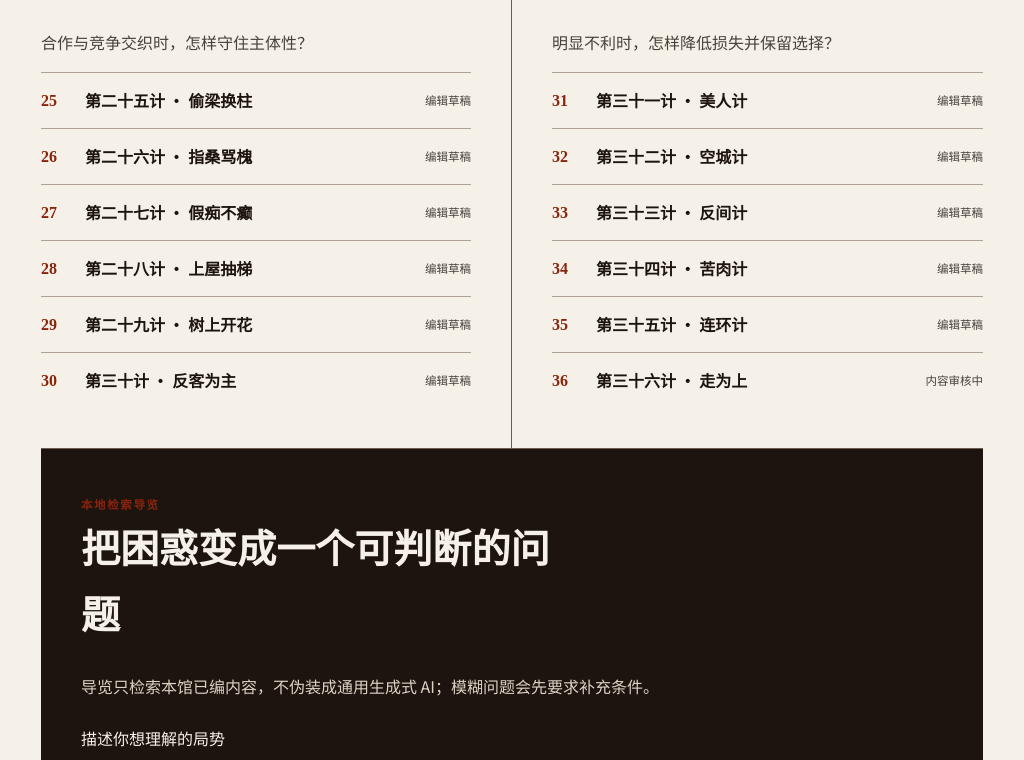
it: responsive interactive museum › opens with six galleries and can enter an exhibit
(page scrolled)
Step 1. Click the button "36 第三十六计 · 走为上 内容审核中" → (636, 380), box [552, 352, 983, 408]
(page scrolled)
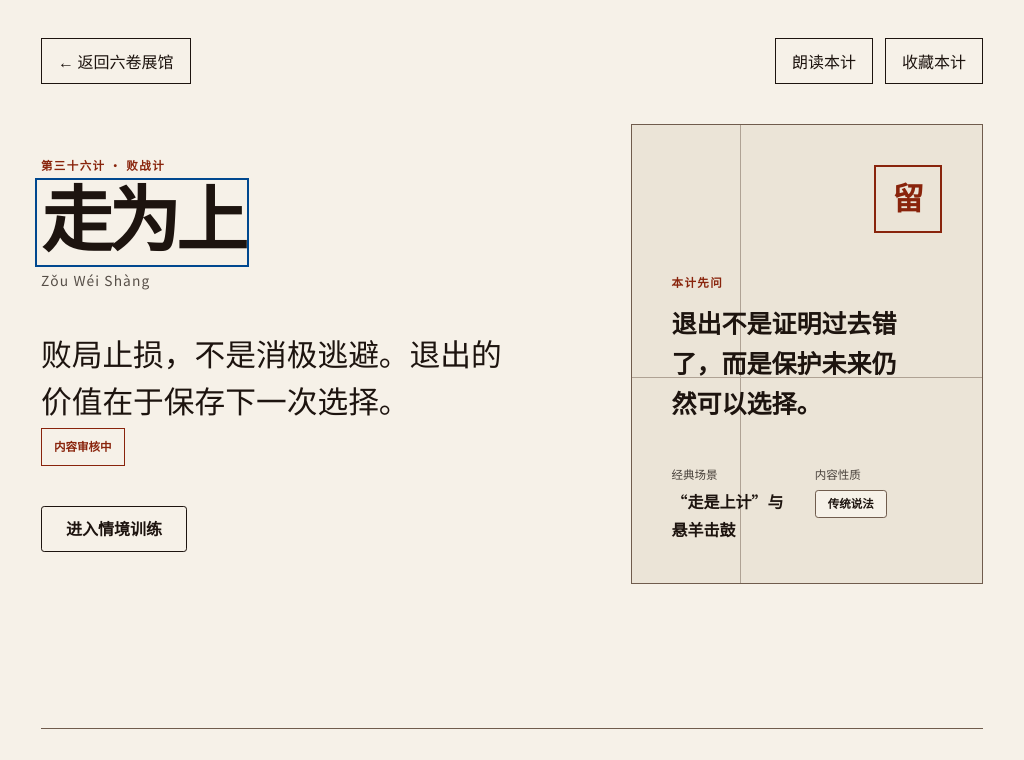
Expected: the heading "走为上" is shown, [41, 184, 243, 261]
Now the text "败局止损，不是消极逃避。退出的价值在于保存下一次选择。" is shown, box [41, 333, 502, 428]
